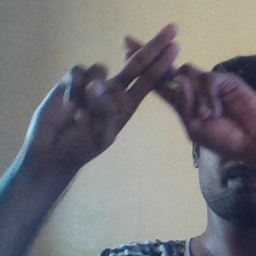F: (95, 19, 208, 127)
